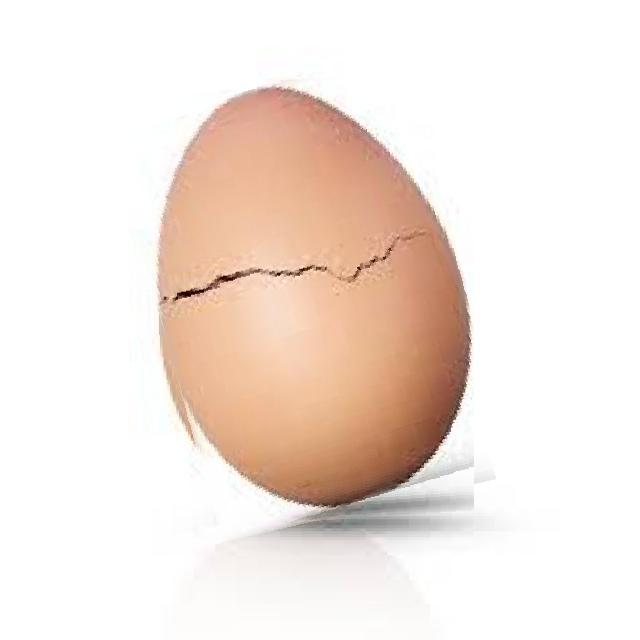biodegradable: (128, 77, 474, 532)
